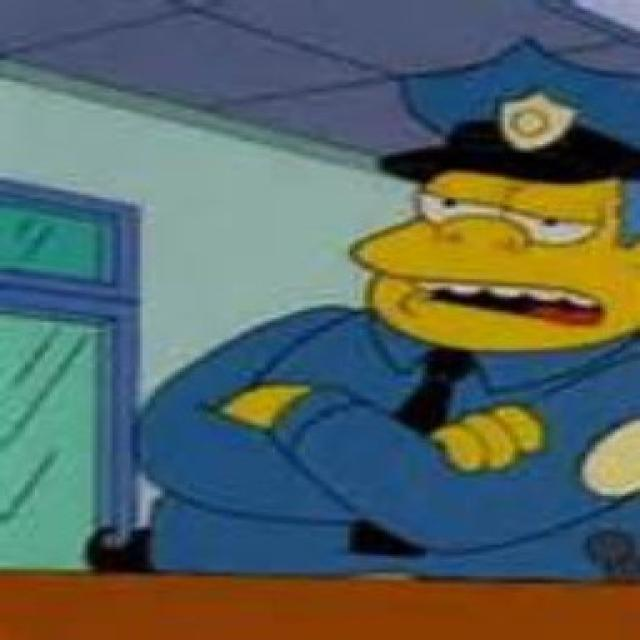Chief Wiggam: (350, 43, 640, 354)
